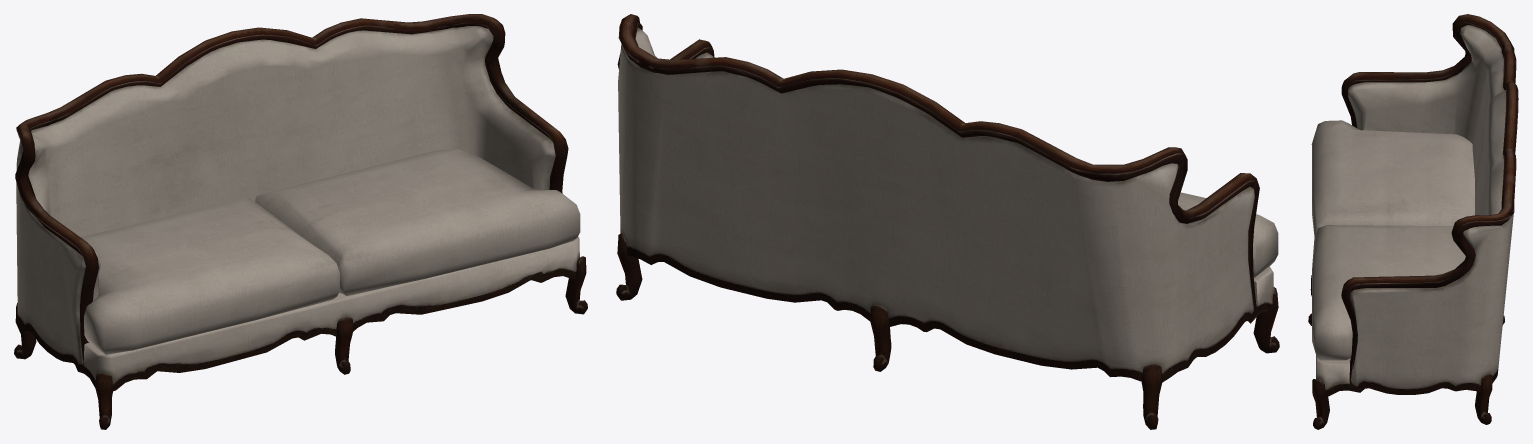
The model's file is Sofa_01.glb.
The picture shows the model from 3 angles, left to right: view 1: azimuth 30°, elevation 25°; view 2: azimuth 150°, elevation 25°; view 3: azimuth 270°, elevation 25°; orthographic projection. The views are drawn at different scales.
Parts seen in each view (by area): view 1: Sofa_01; view 2: Sofa_01; view 3: Sofa_01.
Boxes of the visible parts, left/top/right/bottom form: Sofa_01: left=14, top=14, right=587, bottom=429; Sofa_01: left=616, top=14, right=1279, bottom=429; Sofa_01: left=1308, top=14, right=1518, bottom=429.
Size of the model in its own units: 1.57 by 0.7954 by 0.658.
Materials: 1 (1 with a texture image).
